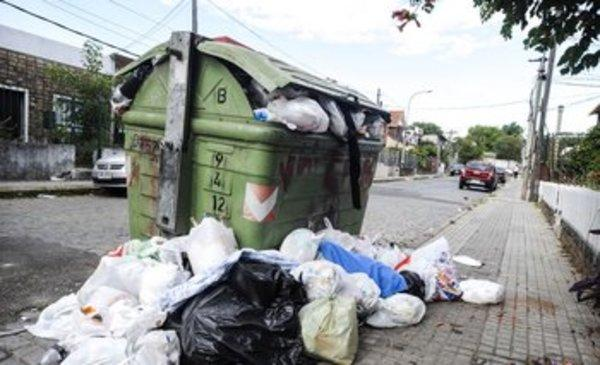Dechets: (29, 217, 503, 364), (453, 248, 488, 273)
Trash: (111, 31, 390, 248)
